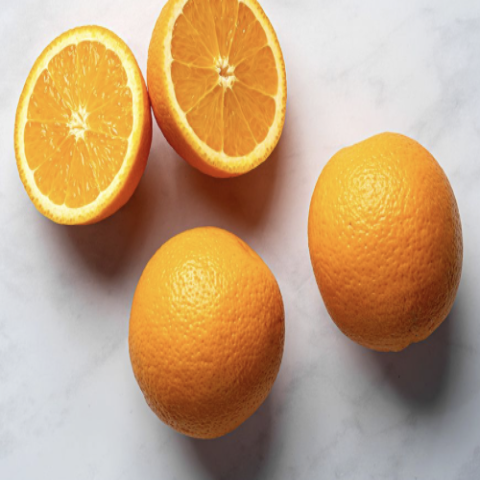orange: (293, 128, 470, 357), (114, 221, 296, 436)
